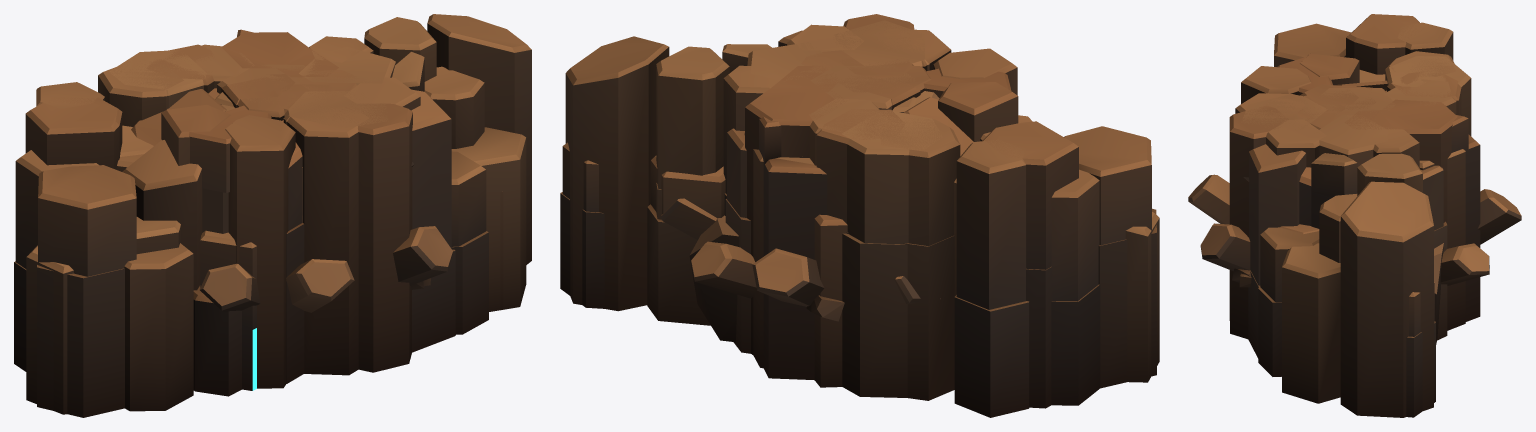
The model's file is khepri-kit.glb.
The picture shows the model from 3 angles, left to right: view 1: azimuth 30°, elevation 25°; view 2: azimuth 150°, elevation 25°; view 3: azimuth 270°, elevation 25°; orthographic projection. The views are drawn at different scales.
Visible parts, largest first — view 1: basalt_clump_3, basalt_wall_2, basalt_wall_0, basalt_wall_1, basalt_clump_4, basalt_clump_0, basalt_rosette_0, basalt_clump_2, basalt_clump_1, basalt_clump_5, basalt_column_0, basalt_spire_2; view 2: basalt_wall_0, basalt_wall_1, basalt_wall_2, basalt_clump_2, basalt_clump_4, basalt_clump_3, basalt_clump_0, basalt_rosette_0, boulder_1, basalt_clump_1, basalt_column_0, basalt_clump_5 (+1 smaller); view 3: basalt_wall_0, basalt_clump_3, basalt_clump_4, basalt_wall_1, basalt_clump_2, basalt_wall_2, basalt_rosette_0, basalt_clump_0, basalt_clump_1, basalt_column_0, basalt_clump_5, boulder_1.
Part boxes in pixels (box(x1,y1,x2,y2)): basalt_clump_3: box(161, 70, 455, 388); basalt_wall_2: box(25, 97, 503, 417); basalt_wall_0: box(14, 14, 531, 414); basalt_wall_1: box(36, 59, 488, 411); basalt_clump_4: box(189, 29, 412, 372); basalt_clump_0: box(131, 32, 312, 383); basalt_rosette_0: box(199, 162, 453, 312); basalt_clump_2: box(109, 47, 395, 128); basalt_clump_1: box(200, 51, 424, 390); basalt_clump_5: box(177, 44, 302, 222); basalt_column_0: box(217, 64, 314, 102); basalt_spire_2: box(246, 74, 295, 92); basalt_wall_0: box(565, 36, 1159, 405); basalt_wall_1: box(725, 118, 1029, 417); basalt_wall_2: box(560, 115, 1156, 408); basalt_clump_2: box(744, 20, 942, 397); basalt_clump_4: box(759, 14, 1011, 380); basalt_clump_3: box(778, 29, 1018, 387); basalt_clump_0: box(745, 77, 973, 354); basalt_rosette_0: box(660, 198, 940, 321); boulder_1: box(689, 215, 739, 342); basalt_clump_1: box(722, 24, 863, 72); basalt_column_0: box(810, 65, 914, 109); basalt_clump_5: box(809, 98, 889, 165); basalt_wall_0: box(1282, 70, 1433, 417); basalt_clump_3: box(1235, 53, 1359, 358); basalt_clump_4: box(1229, 56, 1480, 339); basalt_wall_1: box(1258, 22, 1456, 376); basalt_clump_2: box(1241, 56, 1471, 330); basalt_wall_2: box(1274, 14, 1435, 417); basalt_rosette_0: box(1188, 174, 1521, 287); basalt_clump_0: box(1280, 71, 1461, 233); basalt_clump_1: box(1266, 119, 1357, 228); basalt_column_0: box(1316, 88, 1395, 119); basalt_clump_5: box(1384, 79, 1456, 114); boulder_1: box(1434, 243, 1443, 344).
Size of the model in its own units: 2.56 by 1.15 by 1.65.
